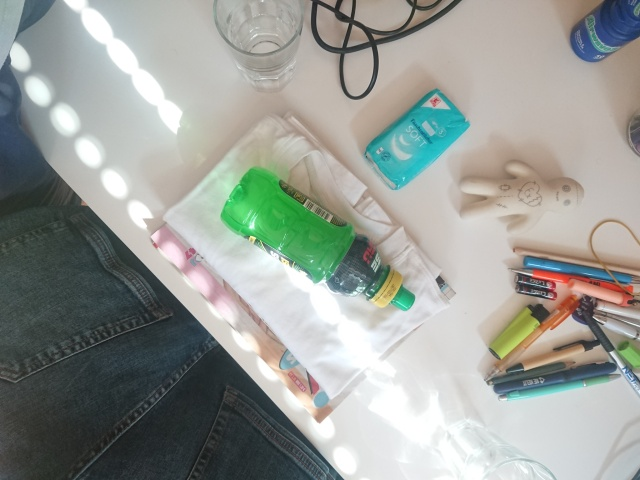Vindi Iso Sport Lemon-Grapefruit 500mL: (217, 164, 418, 313)
